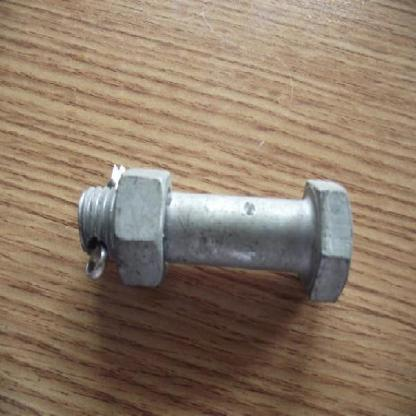FOD: (74, 152, 361, 305), (114, 167, 174, 292)
